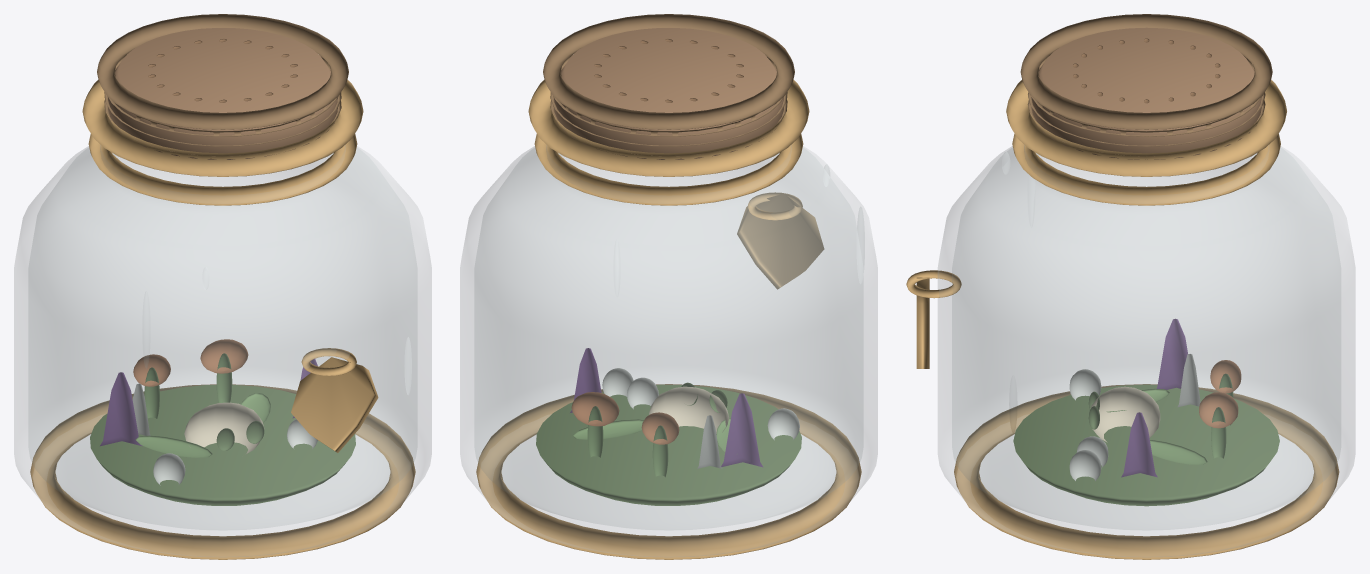
Rendered from jar_01_ruby.glb.
The picture shows the model from 3 angles, left to right: view 1: azimuth 30°, elevation 25°; view 2: azimuth 150°, elevation 25°; view 3: azimuth 270°, elevation 25°; orthographic projection.
Parts seen in each view (by area): view 1: Outer glass wall, Inner glass wall, Natural cork stopper, Soft moss and earth bed, Foot brass ring, Stopper top binding, Stopper retaining ring, Neck collar, Unlabeled rose charm, Hand-cut quartz point (×2), Tiny animal skull relic, Toadstool cap (×2) (+5 smaller); view 2: Outer glass wall, Inner glass wall, Natural cork stopper, Soft moss and earth bed, Foot brass ring, Stopper top binding, Stopper retaining ring, Neck collar, Unlabeled rose charm, Hand-cut quartz point (×3), Tiny animal skull relic, Acorn and seed pod (×3) (+5 smaller); view 3: Outer glass wall, Inner glass wall, Natural cork stopper, Soft moss and earth bed, Foot brass ring, Stopper top binding, Stopper retaining ring, Neck collar, Hand-cut quartz point (×3), Tiny animal skull relic, Toadstool cap (×2), Acorn and seed pod (×2) (+5 smaller).
Boxes of the visible parts, x1,y1,x2,y2 form: Outer glass wall: [14, 145, 431, 557]; Inner glass wall: [29, 148, 416, 529]; Natural cork stopper: [108, 28, 337, 159]; Soft moss and earth bed: [90, 385, 355, 505]; Foot brass ring: [30, 384, 415, 559]; Stopper top binding: [97, 14, 348, 129]; Stopper retaining ring: [82, 80, 363, 176]; Neck collar: [88, 134, 357, 205]; Unlabeled rose charm: [291, 357, 378, 452]; Hand-cut quartz point (×2): [100, 372, 150, 446]; Tiny animal skull relic: [184, 402, 264, 453]; Toadstool cap (×2): [133, 339, 248, 386]; Outer glass wall: [460, 145, 877, 557]; Inner glass wall: [475, 148, 862, 529]; Natural cork stopper: [554, 28, 783, 159]; Soft moss and earth bed: [536, 384, 801, 505]; Foot brass ring: [476, 384, 861, 559]; Stopper top binding: [543, 14, 794, 129]; Stopper retaining ring: [528, 80, 809, 176]; Neck collar: [534, 134, 803, 205]; Unlabeled rose charm: [737, 193, 824, 289]; Hand-cut quartz point (×3): [570, 348, 763, 468]; Tiny animal skull relic: [649, 386, 729, 433]; Acorn and seed pod (×3): [602, 368, 799, 440]; Outer glass wall: [938, 145, 1355, 557]; Inner glass wall: [952, 148, 1340, 529]; Natural cork stopper: [1031, 27, 1261, 159]; Soft moss and earth bed: [1013, 384, 1279, 506]; Foot brass ring: [954, 384, 1339, 559]; Stopper top binding: [1020, 14, 1272, 129]; Stopper retaining ring: [1006, 80, 1286, 176]; Neck collar: [1012, 134, 1280, 205]; Hand-cut quartz point (×3): [1121, 318, 1200, 477]; Tiny animal skull relic: [1091, 386, 1160, 442]; Toadstool cap (×2): [1199, 360, 1241, 428]; Acorn and seed pod (×2): [1069, 369, 1101, 480].
Bounding box in the file's own units: 1.16 × 1.31 × 1.25.
